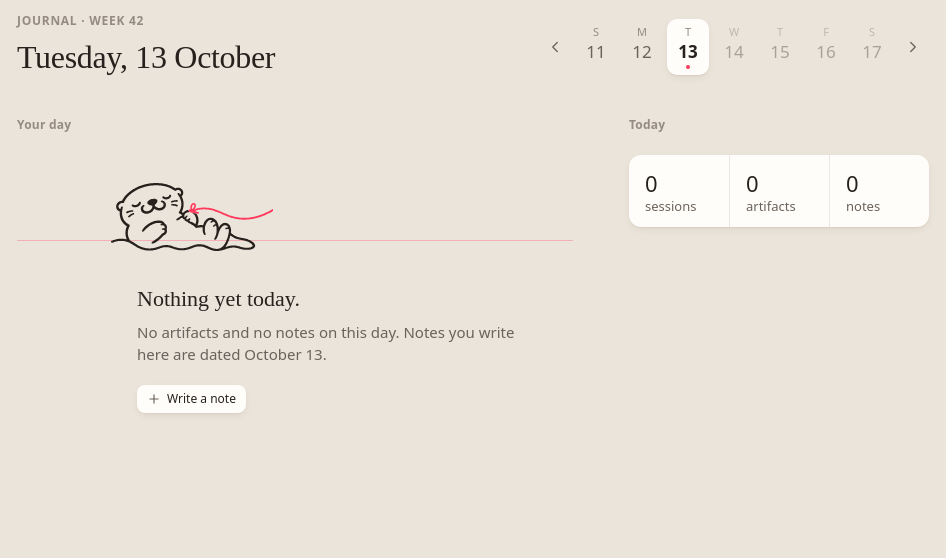
Scenario: JournalView: write a note › shows the error copy and opens nothing when saving fails
Click the button "Write a note": (192, 399) [137, 385, 246, 413]
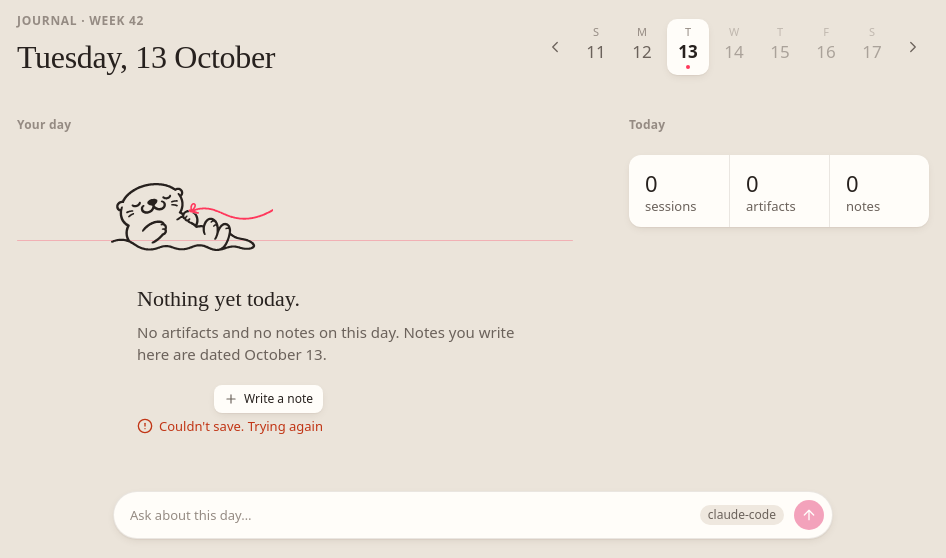
expect the message reads "Couldn't save. Trying again": met, box [159, 417, 323, 435]
